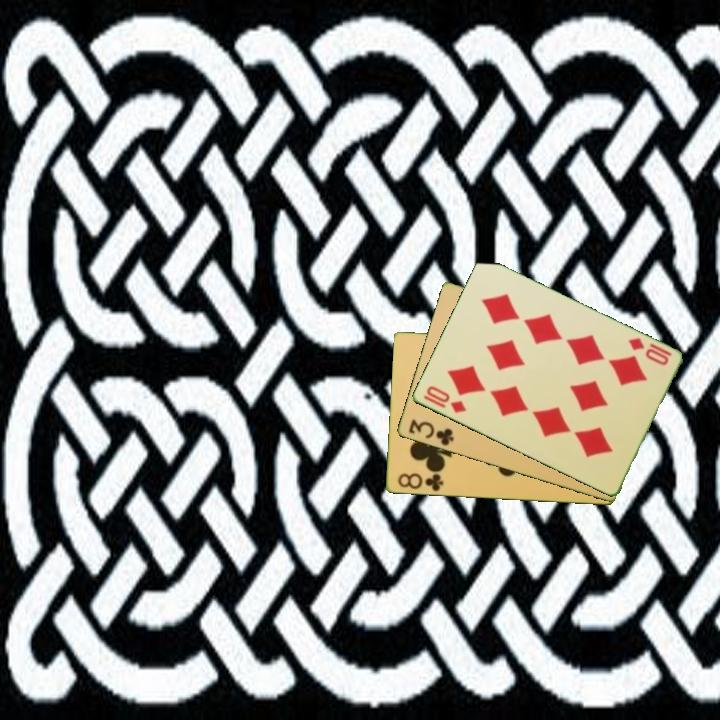10d: (419, 382, 469, 417), (625, 334, 675, 369)
3c: (404, 415, 457, 449)
8c: (394, 469, 446, 494)
